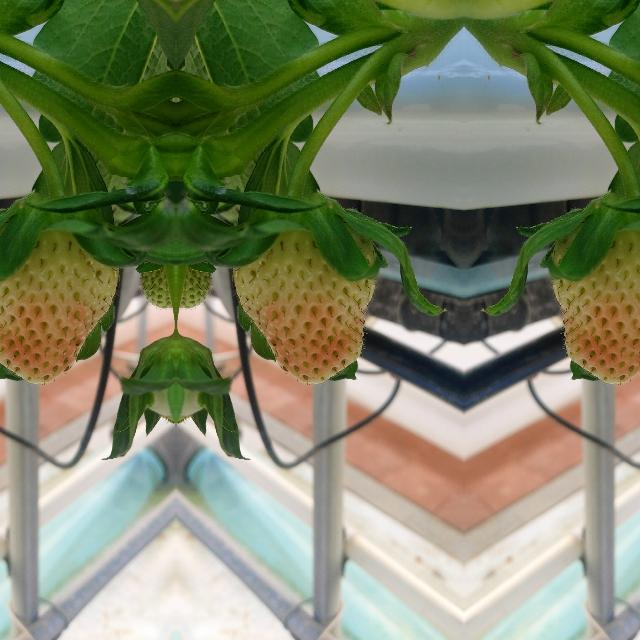Health_50: (228, 214, 378, 386), (0, 214, 121, 386), (548, 214, 640, 386)
